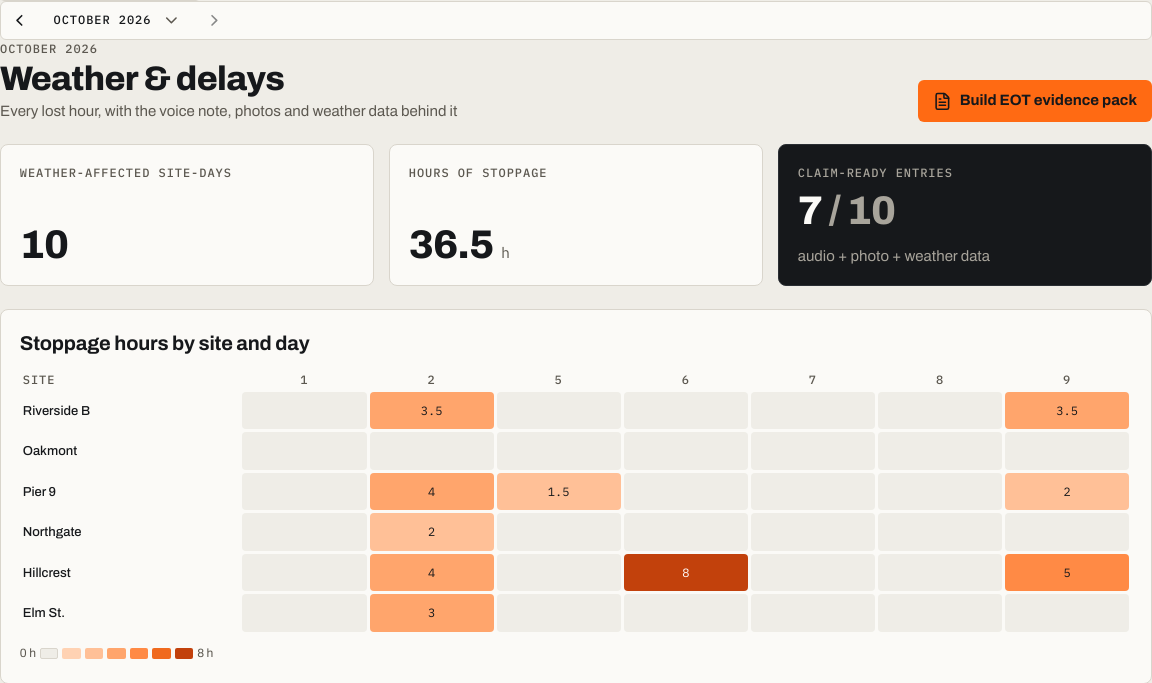
it: WeatherPage (demo data, October 2026) › requests an EOT evidence pack and lists it in the pack history
Click the button "Build EOT evidence pack": (1035, 101) [918, 80, 1151, 122]
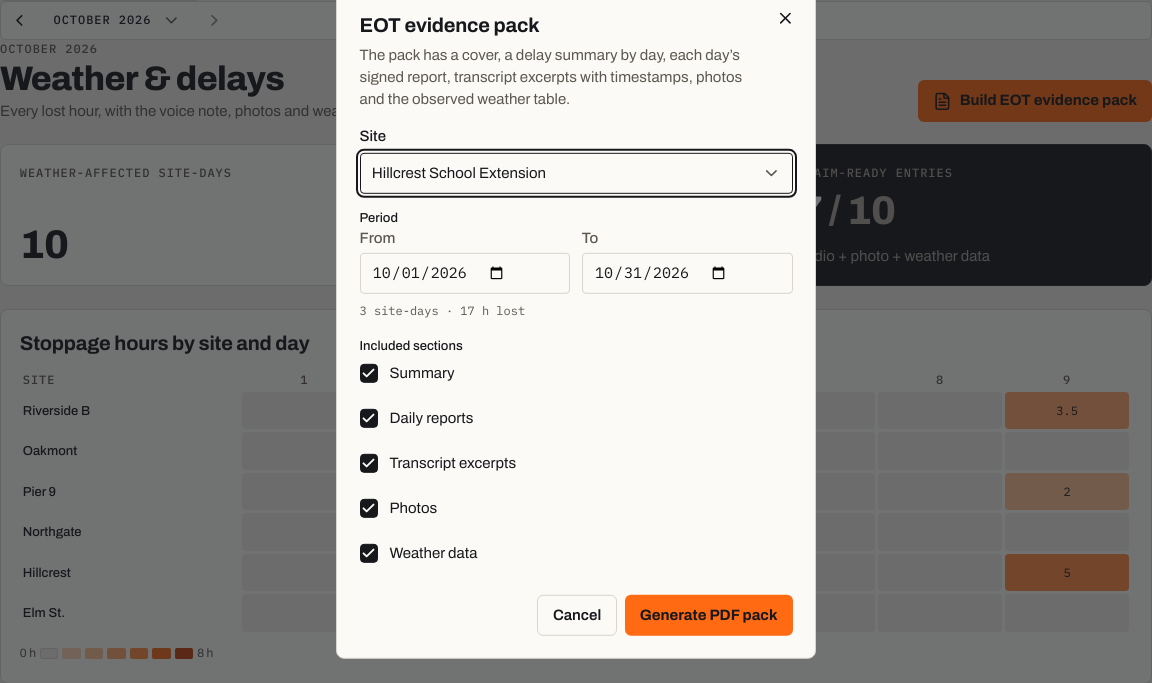
Now the text with test id "pack-summary" reads "3 site-days · 17 h lost", box [360, 302, 525, 317]
Click the checkbox named "Photos": (369, 508) [360, 499, 378, 518]
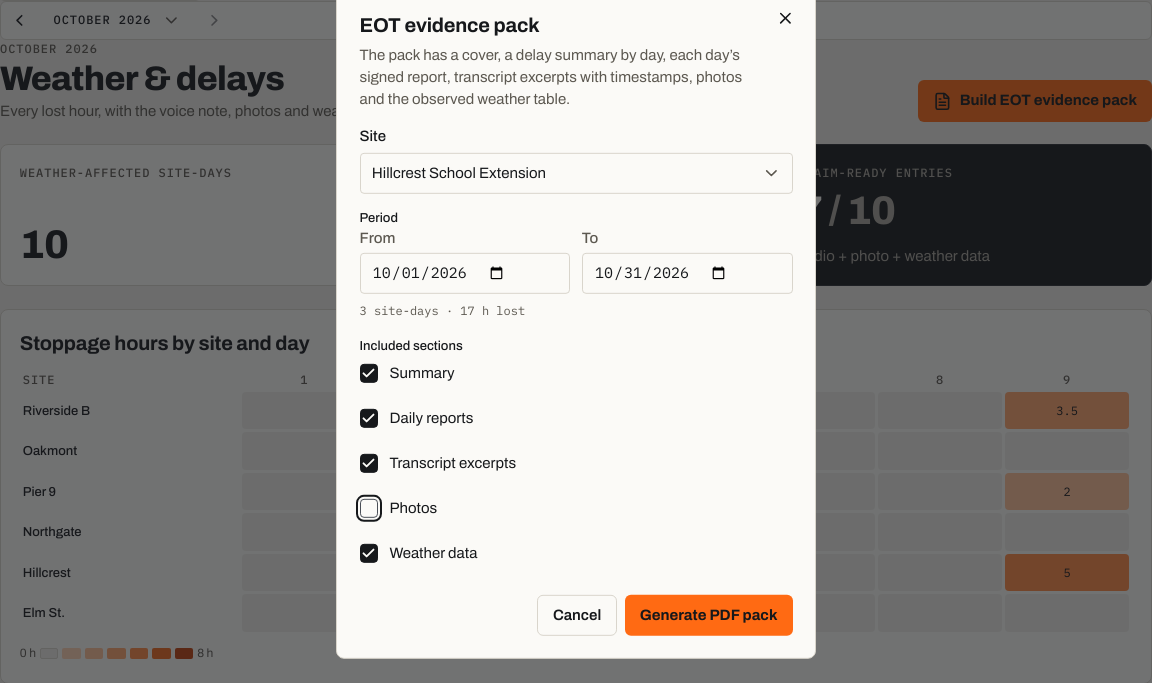
Click the button "Generate PDF pack": (709, 615) [625, 594, 792, 636]
(page scrolled)
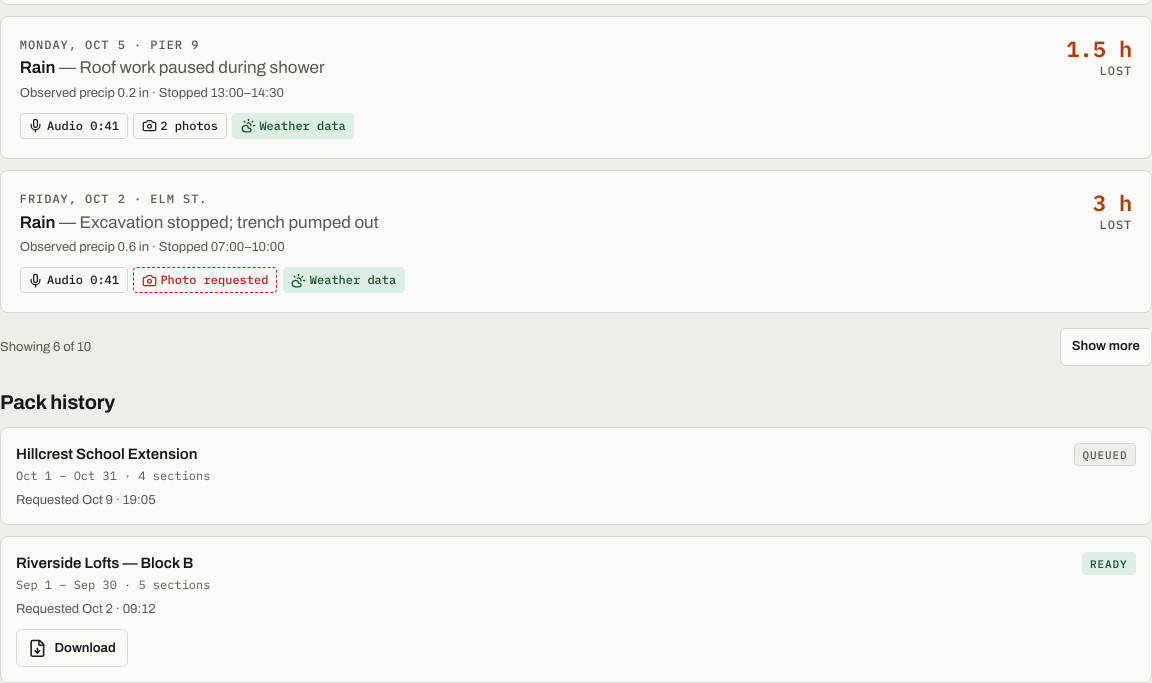
Now the text with test id "pack-status" reads "Queued", box [1083, 448, 1128, 462]
